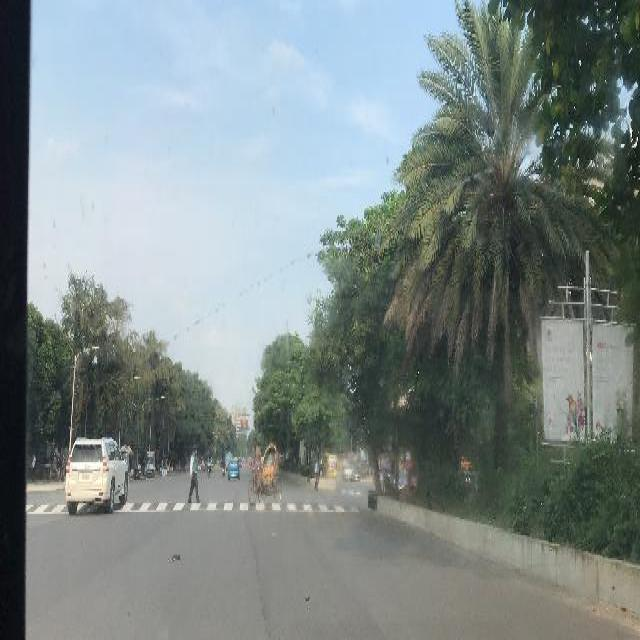10: (220, 458, 226, 476), (206, 458, 210, 477)
13: (252, 434, 282, 505)
15: (65, 436, 129, 514), (227, 459, 239, 480)
19: (342, 465, 352, 481)
5: (352, 468, 360, 482)
Truck: (324, 453, 338, 479)
